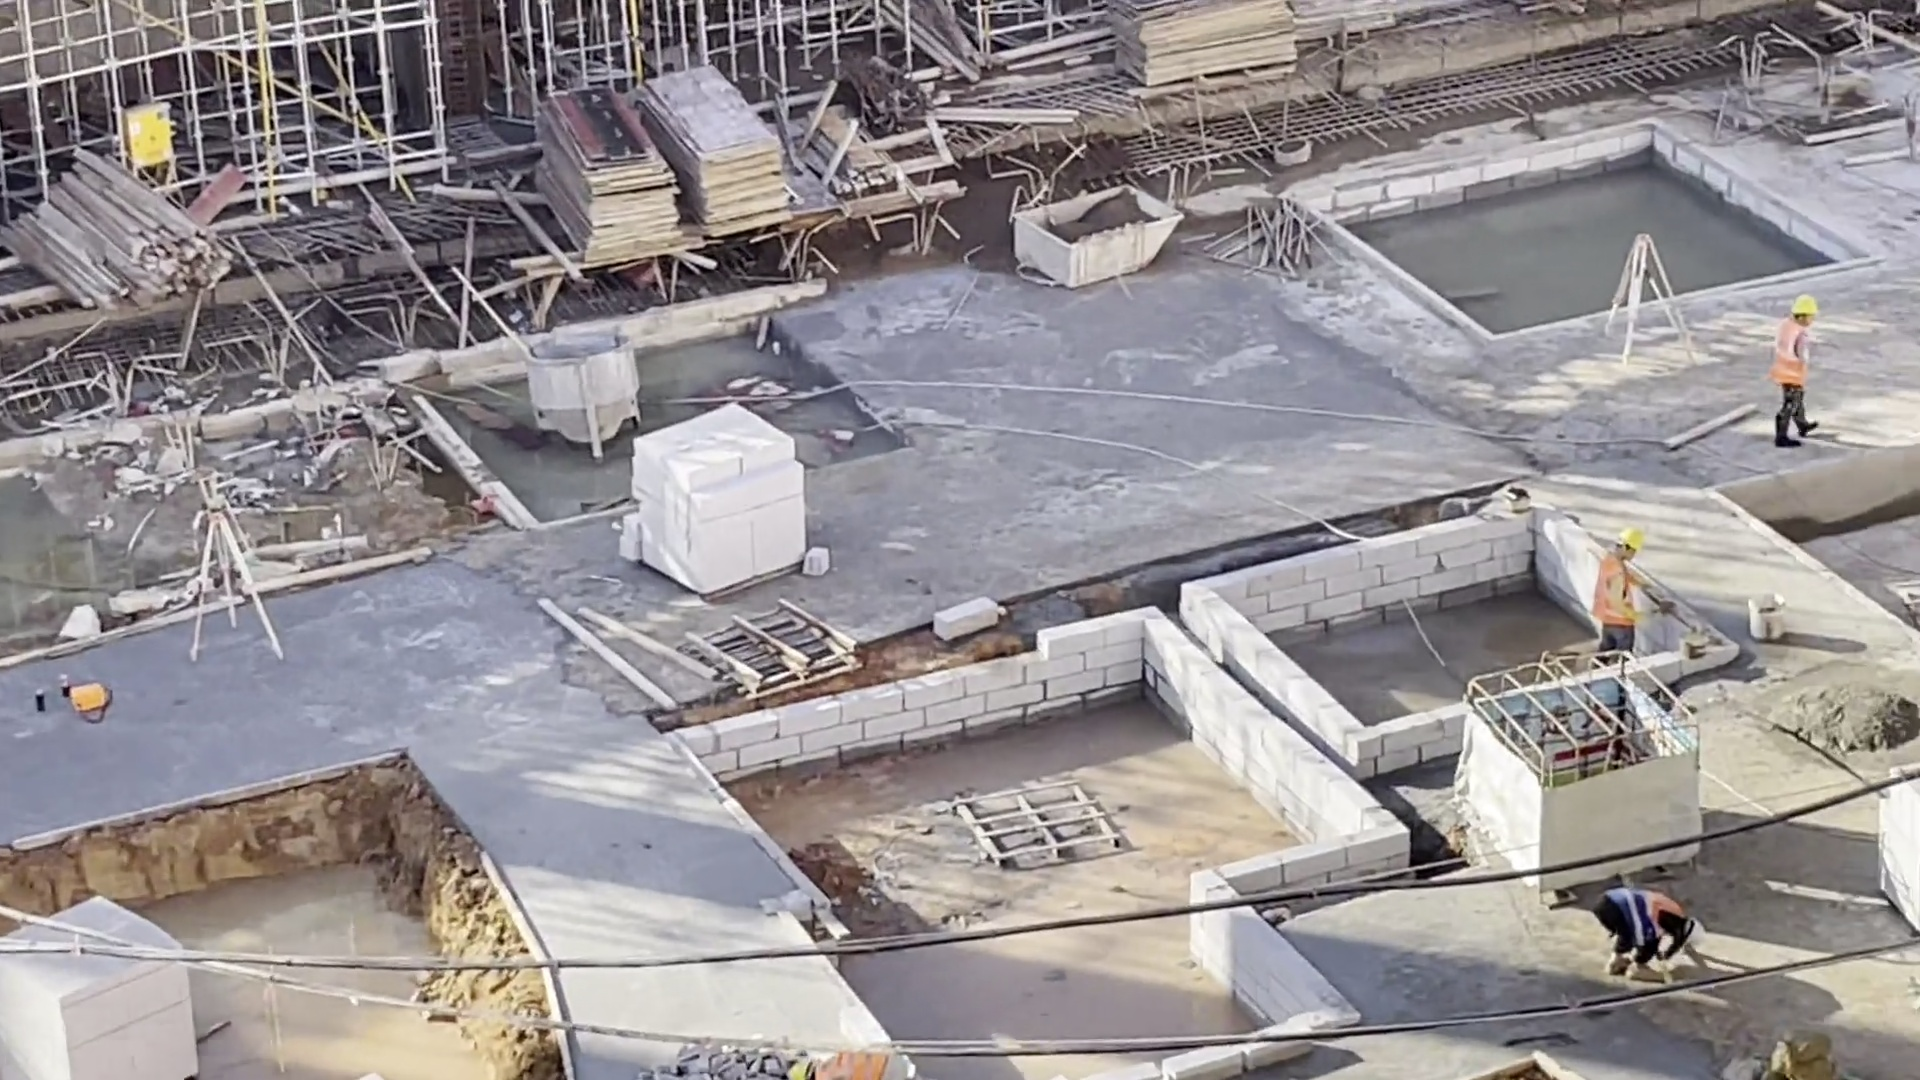board: (675, 60, 766, 250), (578, 97, 664, 254), (1114, 1, 1264, 84)
brick: (622, 408, 814, 585), (1, 920, 202, 1080), (1874, 752, 1920, 920)
ebox: (111, 101, 179, 189)
helmet: (1789, 289, 1831, 322), (1681, 906, 1703, 951), (1619, 529, 1634, 559)
hopper: (1007, 186, 1164, 279)
person: (1591, 886, 1698, 978), (1763, 293, 1813, 453), (784, 1028, 915, 1080), (1596, 526, 1639, 618)
vest: (1611, 879, 1671, 931), (1778, 339, 1821, 384), (1609, 566, 1626, 626)
